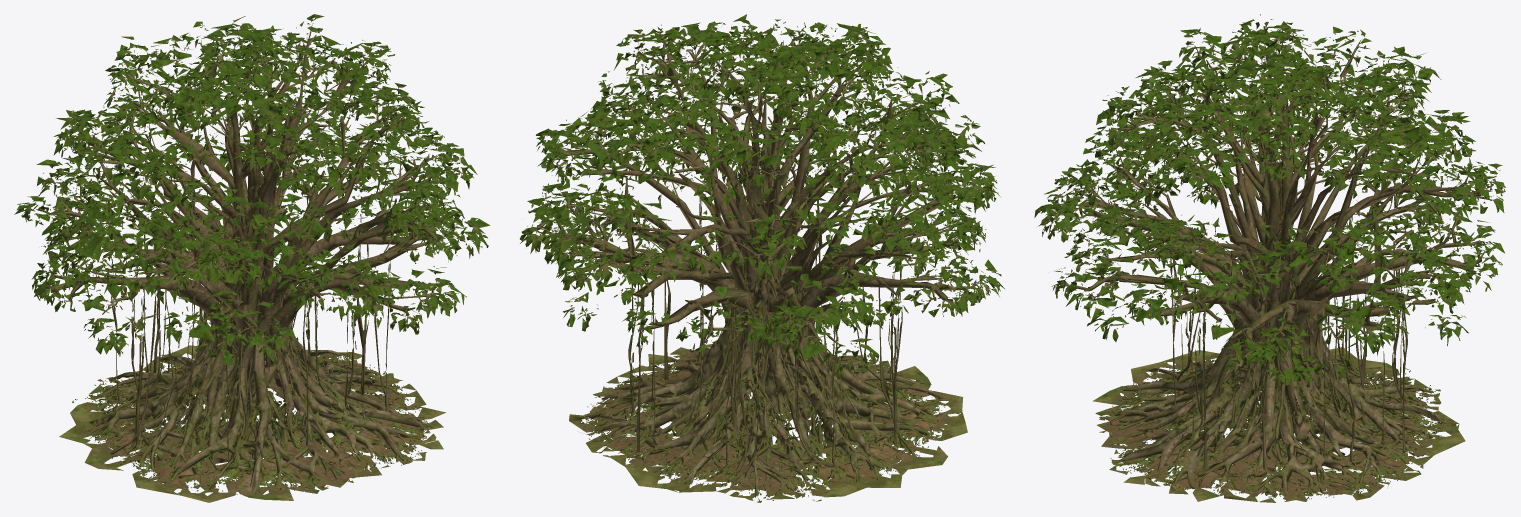
File: banyan.glb
The picture shows the model from 3 angles, left to right: view 1: azimuth 30°, elevation 25°; view 2: azimuth 150°, elevation 25°; view 3: azimuth 270°, elevation 25°; orthographic projection. The views are drawn at different scales.
Visible parts, largest first — view 1: geometry_0; view 2: geometry_0; view 3: geometry_0.
Boxes of the visible parts, <box> form: geometry_0: <box>14,14,490,502</box>; geometry_0: <box>520,14,1004,502</box>; geometry_0: <box>1034,14,1505,502</box>.
Size of the model in its own units: 0.9878 by 0.8793 by 0.9733.
Materials: 1 (1 with a texture image).
